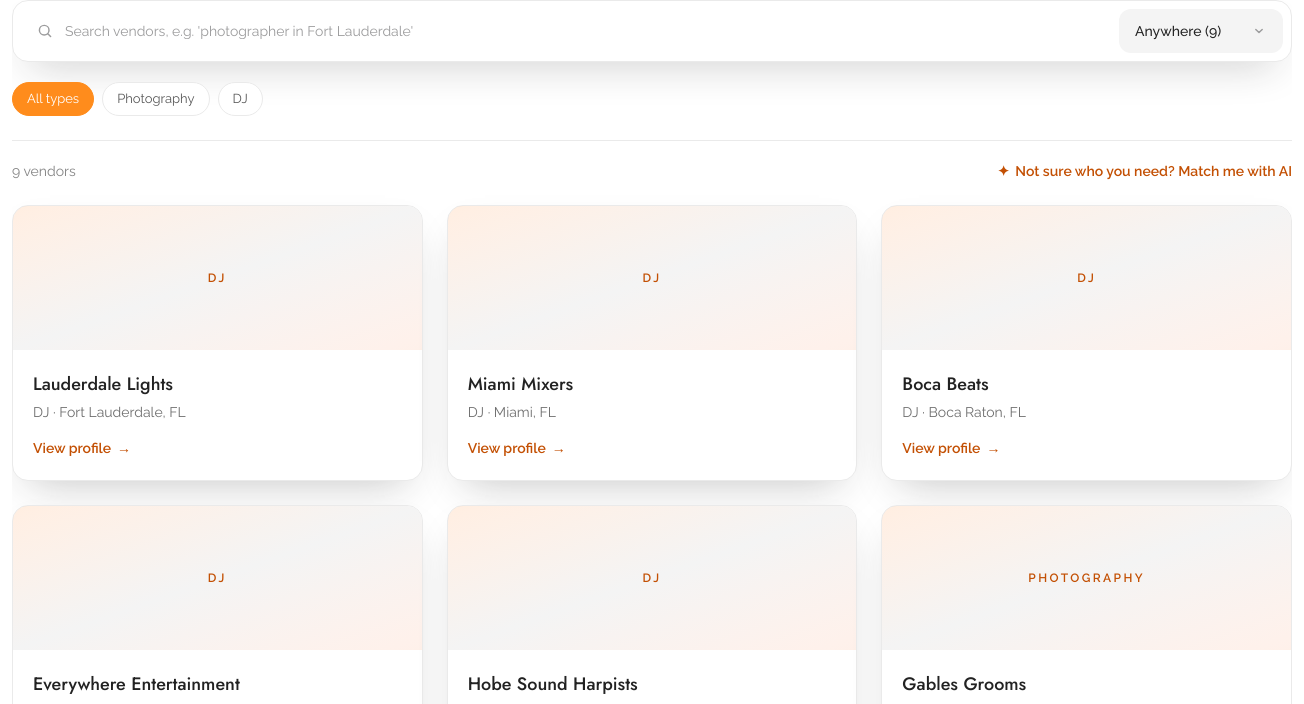
Test: VendorDirectoryList metro and area filters › drops the area when the metro changes
This screenshot has width=1304, height=704.
Select "South Florida (6)" in the dropdown named "Metro": (1201, 31) [1119, 9, 1283, 53]
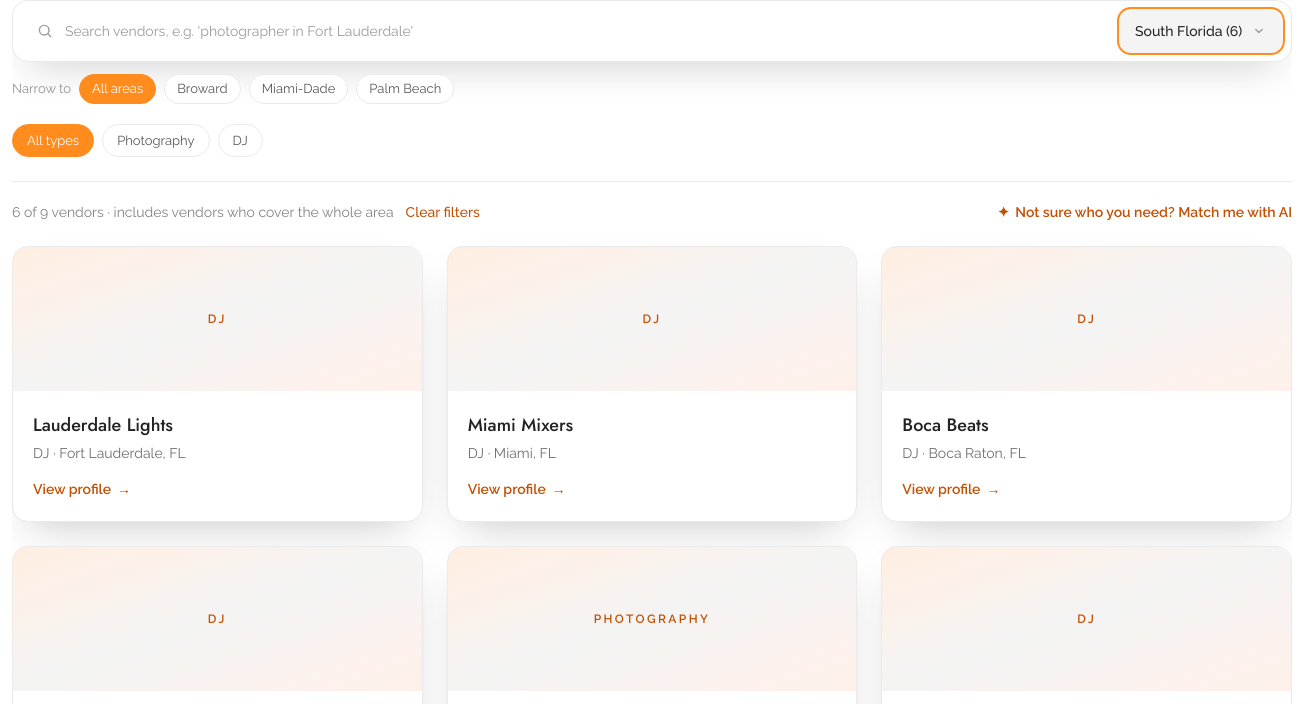
Click the button "Broward": (202, 89) [164, 74, 241, 104]
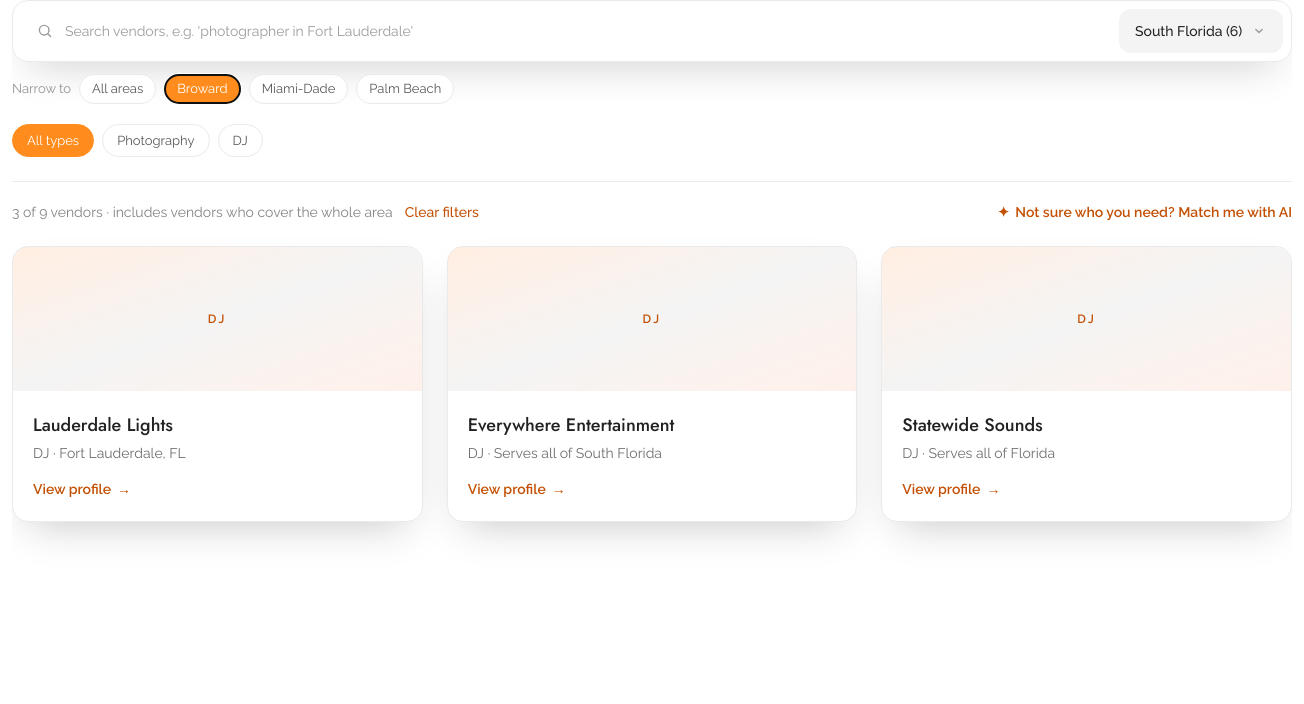
Now the text "Orlando Oscillators" is not shown
Select "Orlando (3)" in the dropdown named "Metro": (1201, 31) [1119, 9, 1283, 53]
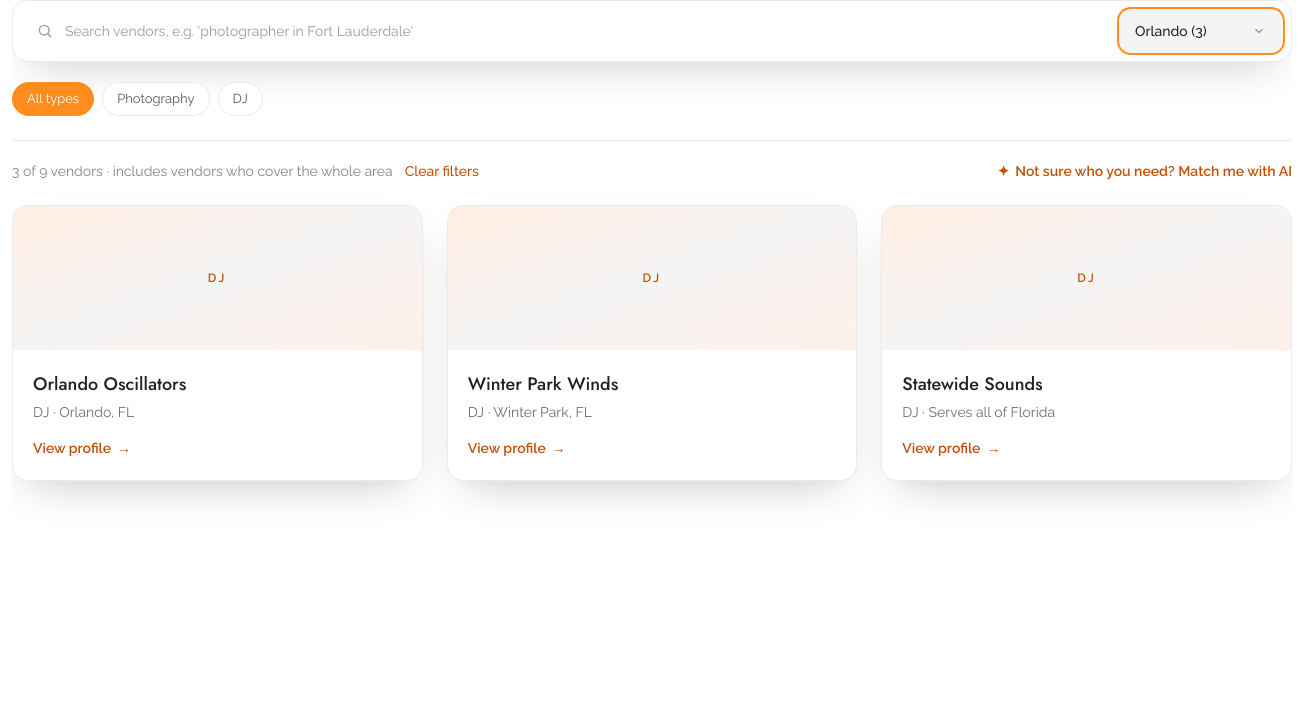
Now the heading "Orlando Oscillators" is shown, box [33, 370, 186, 396]
